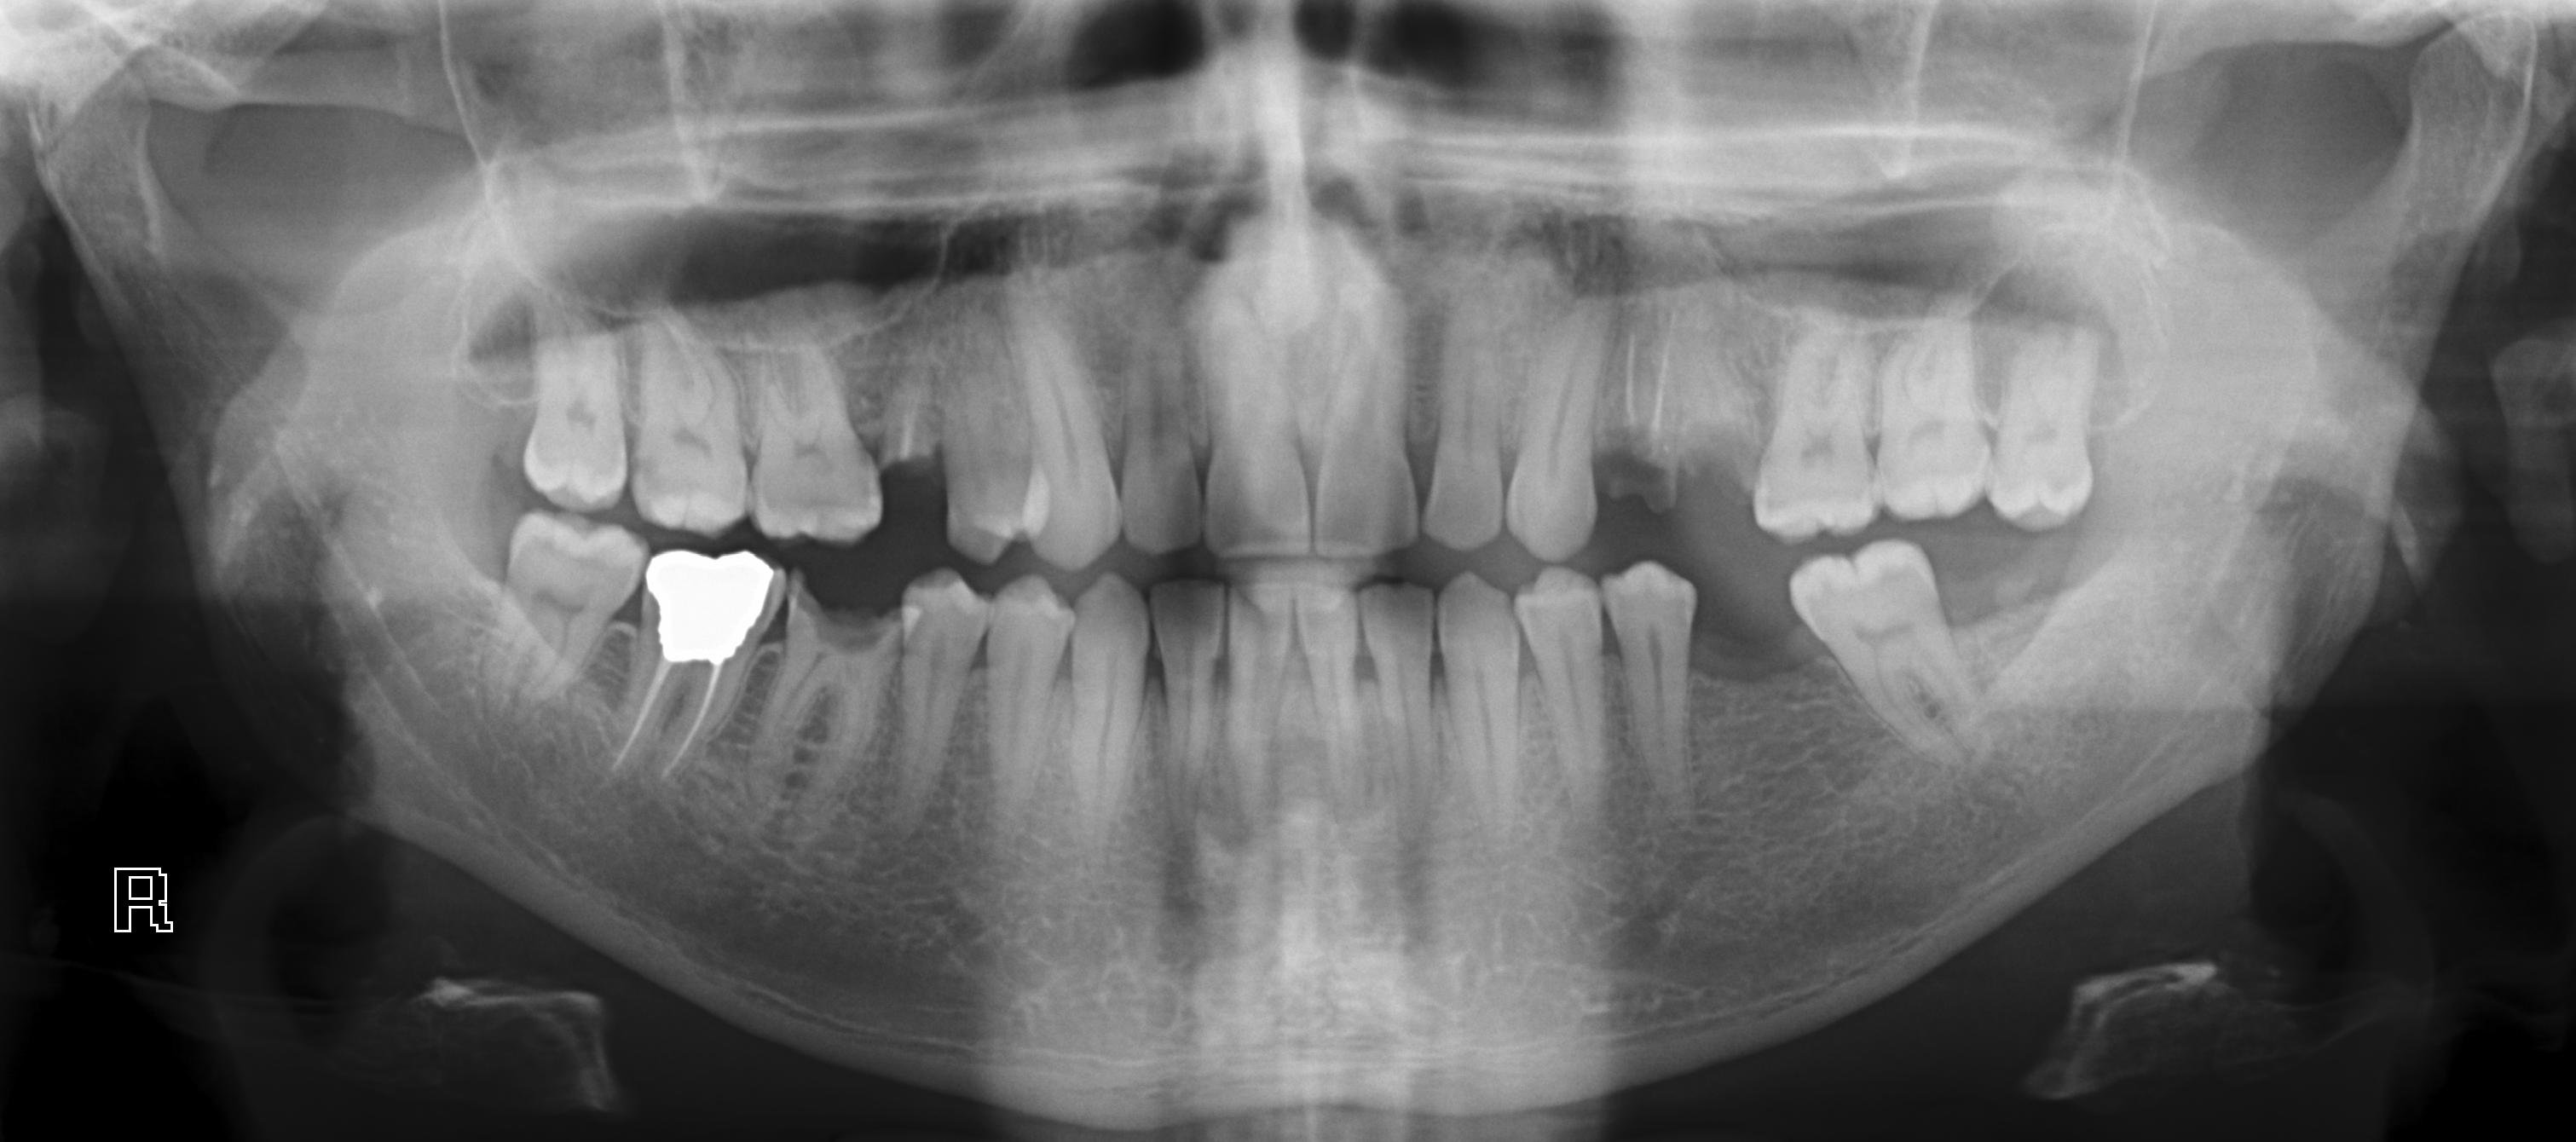Çürük: (642, 532, 779, 672)
Çürük Bölgesi: (1592, 435, 1679, 506), (797, 598, 902, 649)
